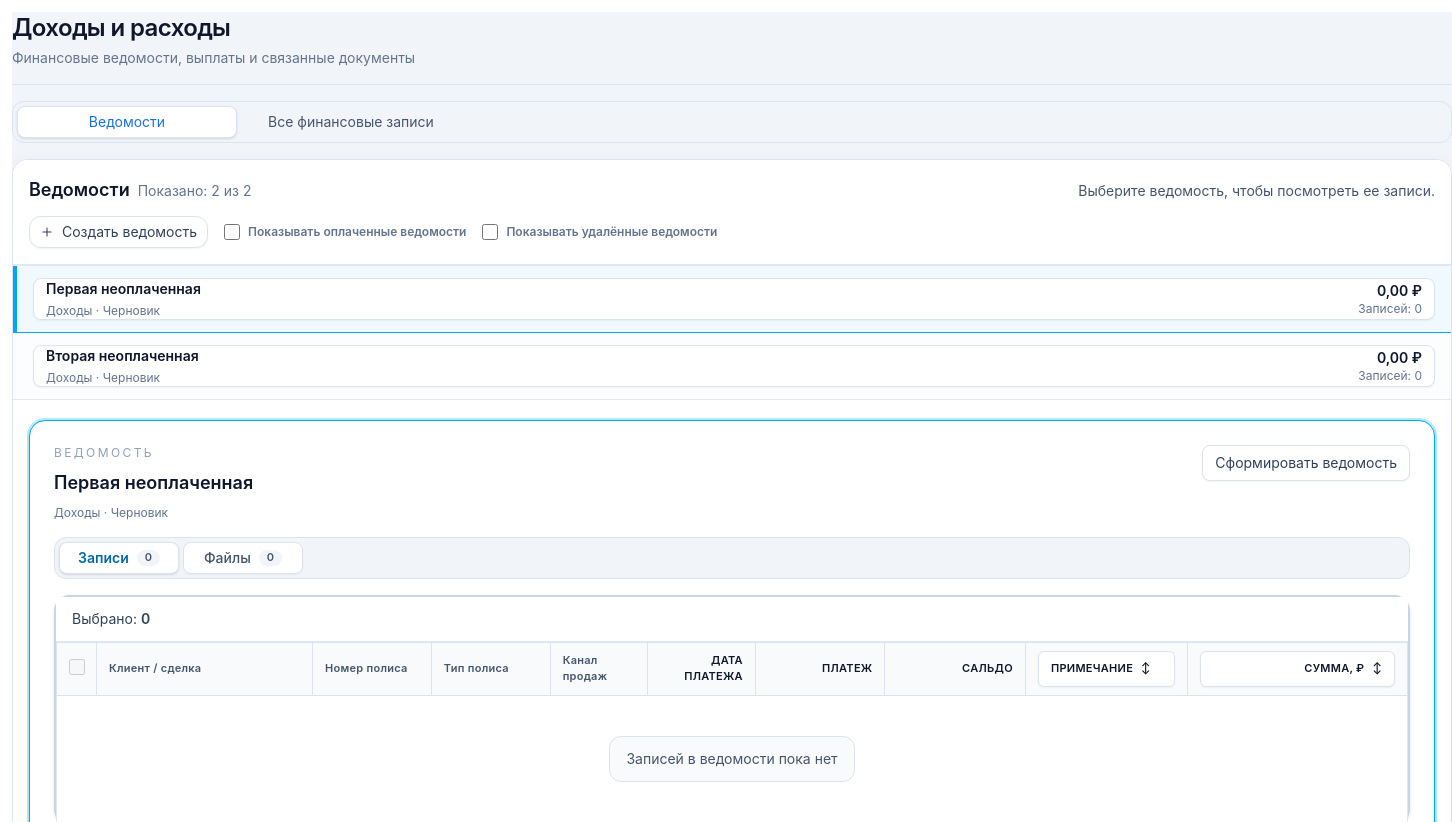
Test: CommissionsView › shows all unpaid statements and loads more only when paid statements are visible
This screenshot has width=1452, height=822.
Check: the button "Вторая неоплаченная Доходы · Черновик 0,00 ₽ Записей: 0" is shown, box [33,345,1435,387]
Check: the text "Показано: 2 из 2" is shown, box [138,181,252,201]
Click the checkbox labelled "Показывать оплаченные ведомости": (232, 232) [224,224,240,240]
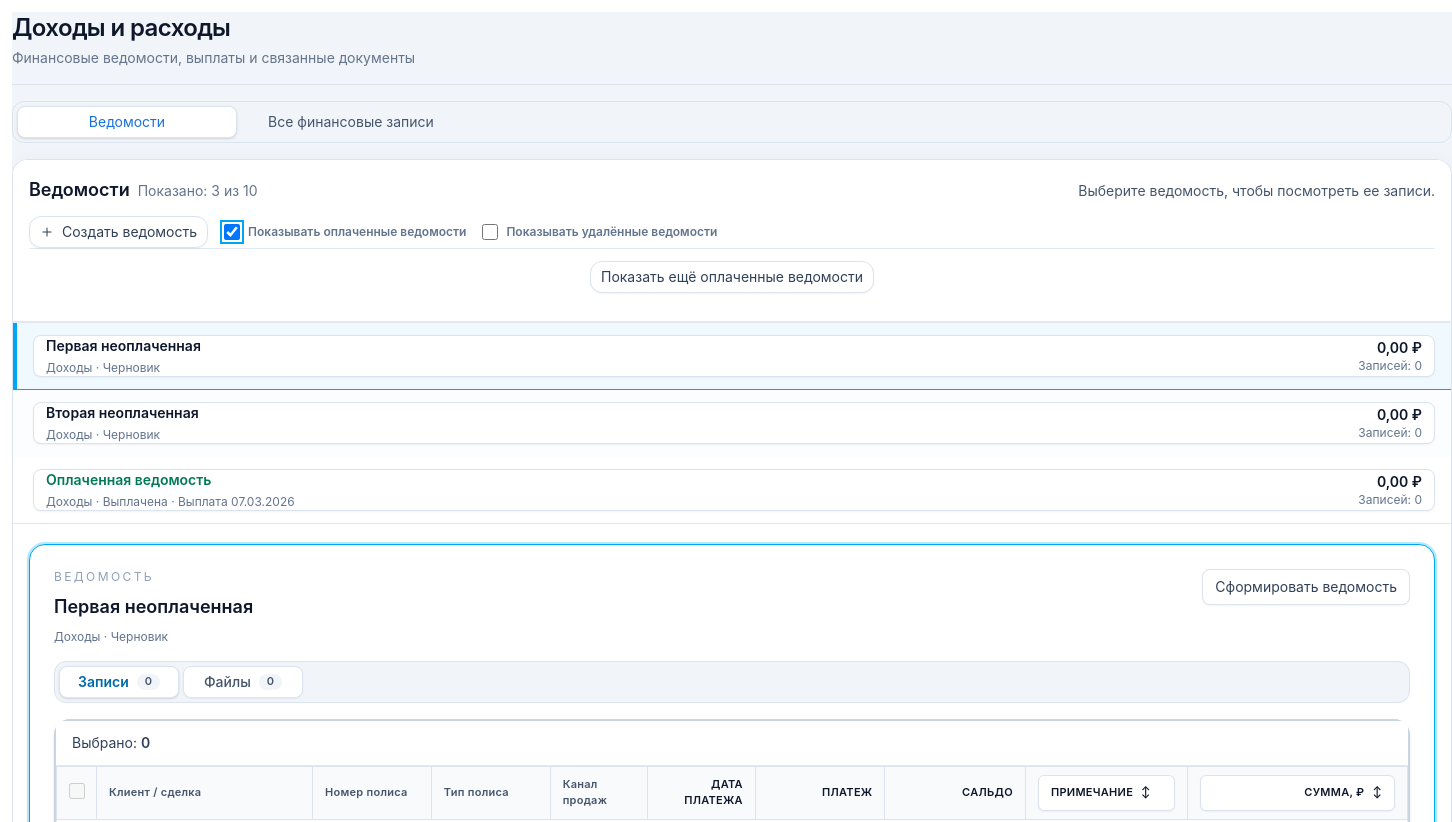
Check: the text "Показано: 3 из 10" is shown, box [138,181,258,201]
Check: the button "Оплаченная ведомость" is shown, box [33,469,1435,511]
Click the button "Показать ещё оплаченные ведомости": (732, 277) [590,261,874,293]
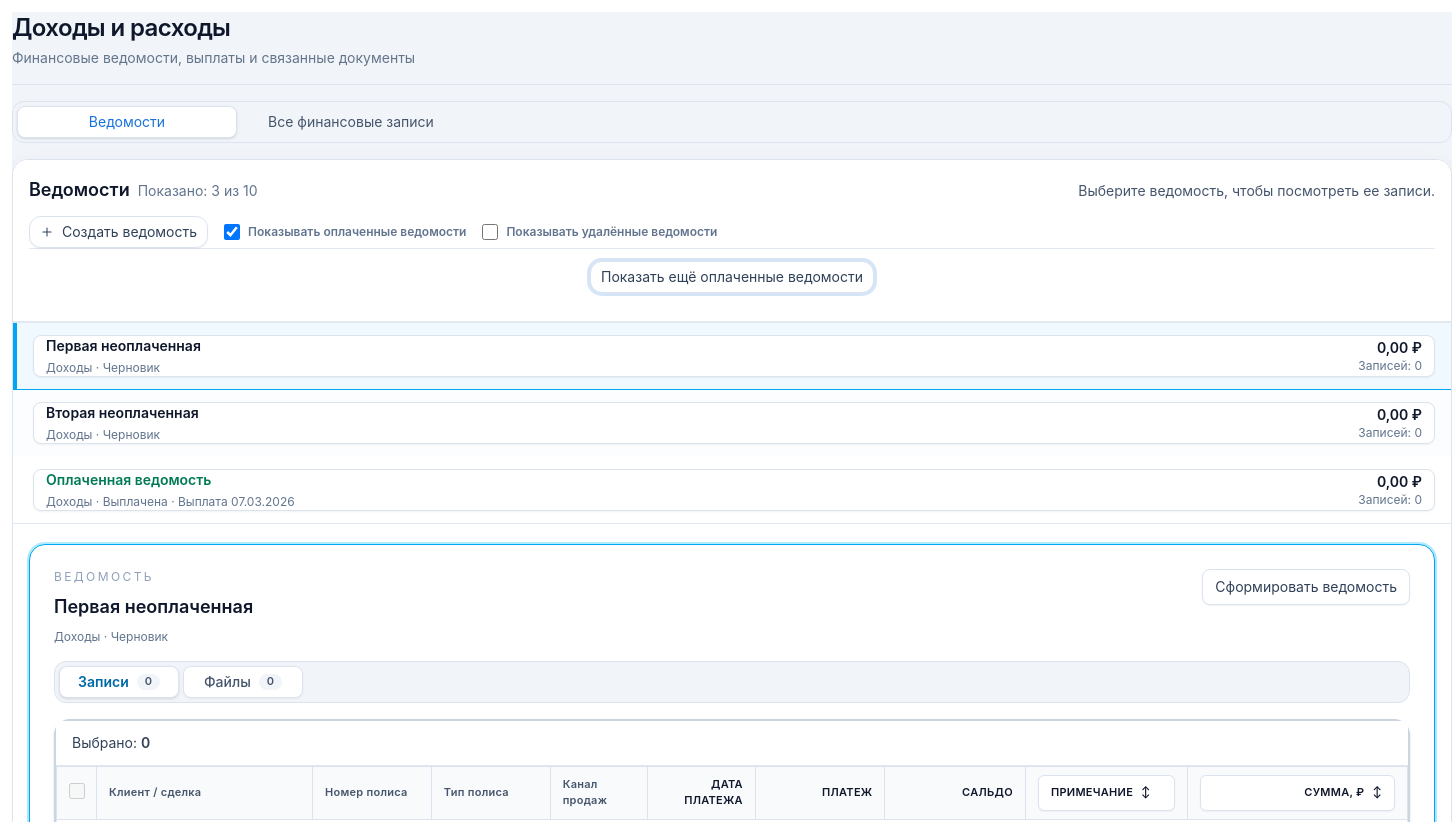
Click the checkbox labelled "Показывать оплаченные ведомости": (232, 232) [224,224,240,240]
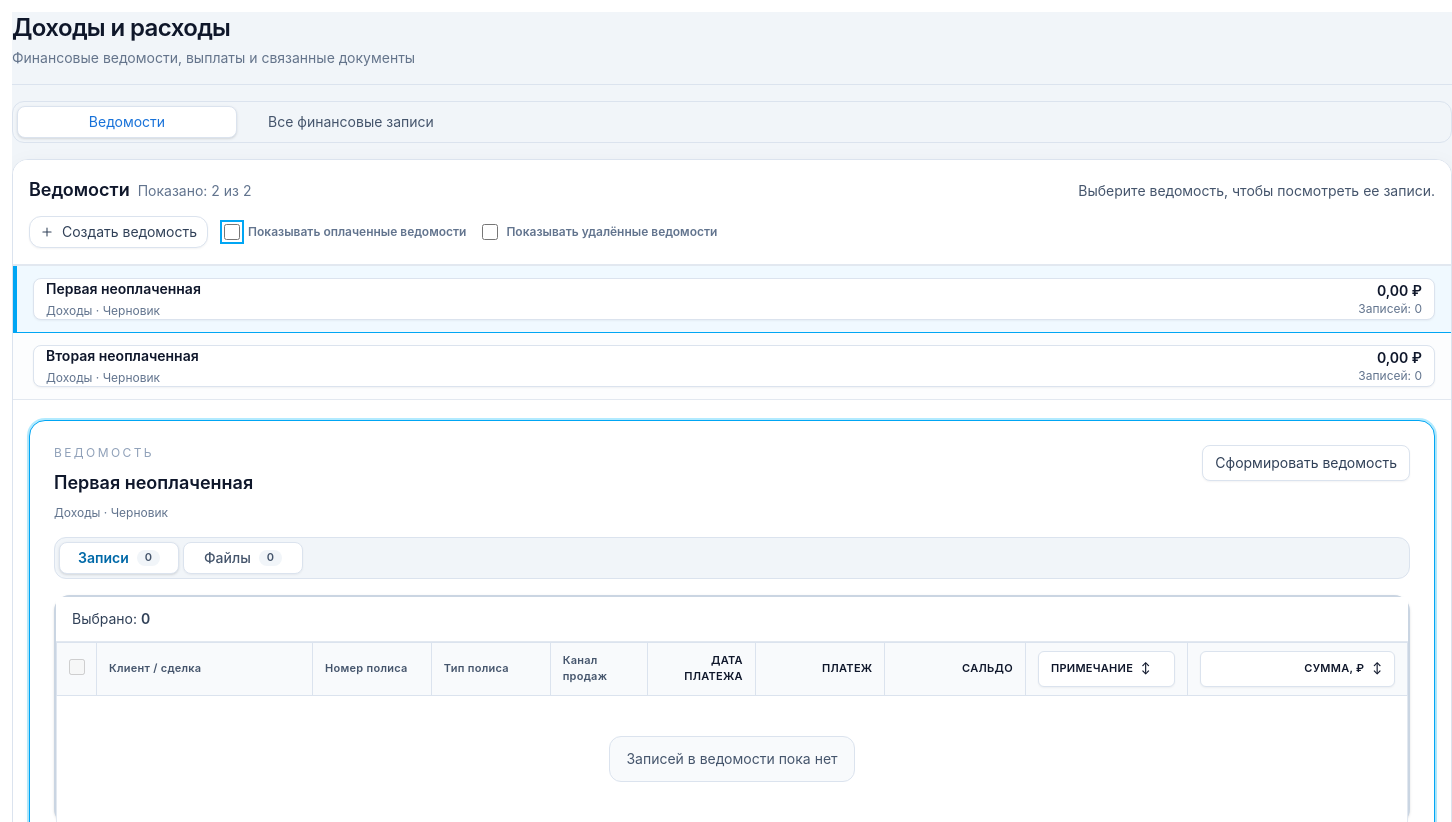
Check: the text "Показано: 2 из 2" is shown, box [138,181,252,201]
Check: the button "Показать ещё" is gone
